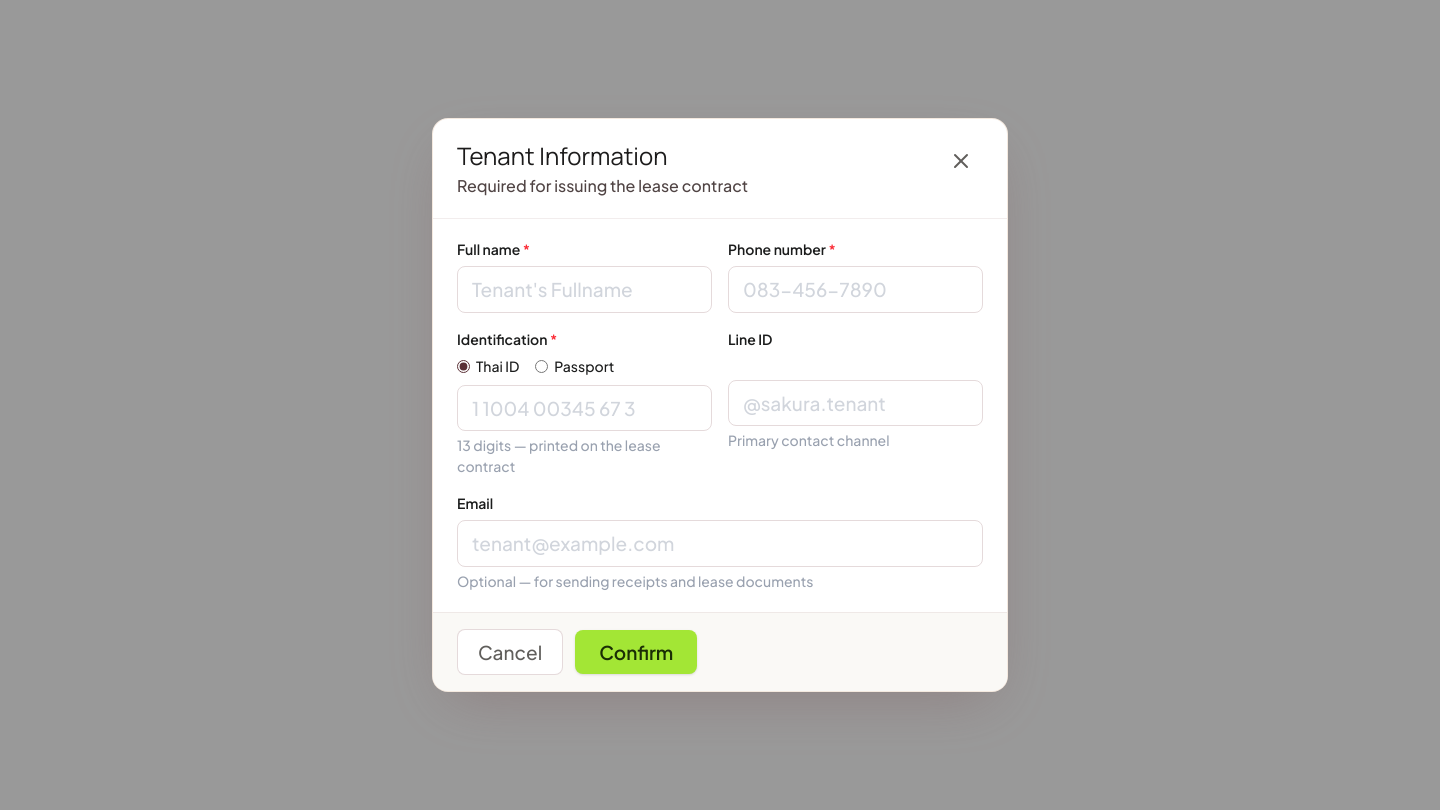
it: AddTenantDialog (SSK-107) › formats National ID automatically and validates Thai 13-digit checksum in English
// Type National ID
Type "1100400123459" into the field named "National ID" at [584, 408], box [457,385,712,431]
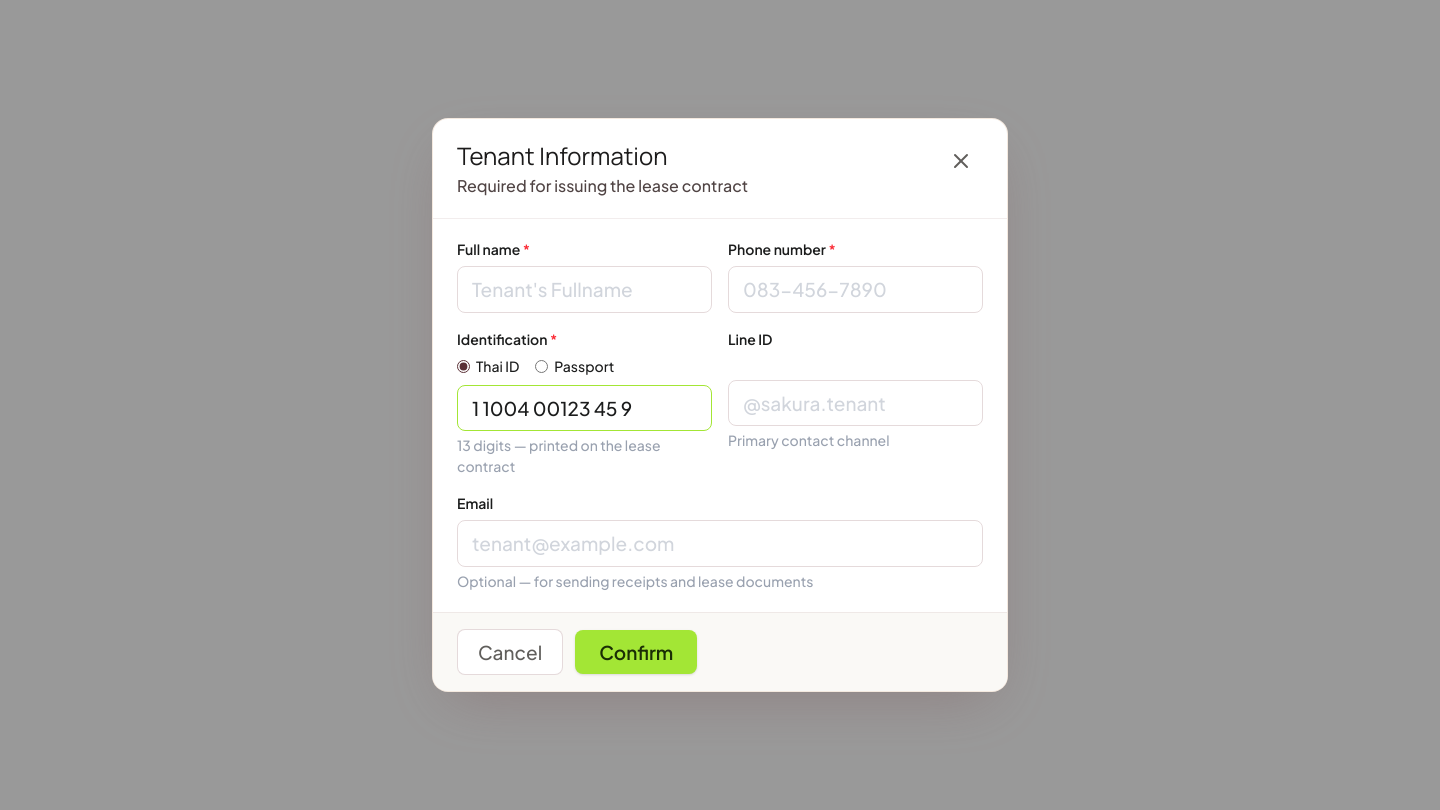
Check: the field named "National ID" holds "1 1004 00123 45 9", box [457,385,712,431]
Type "Nanami Aoki" into the field labelled "Full name *" at [584, 290], box [457,266,712,313]
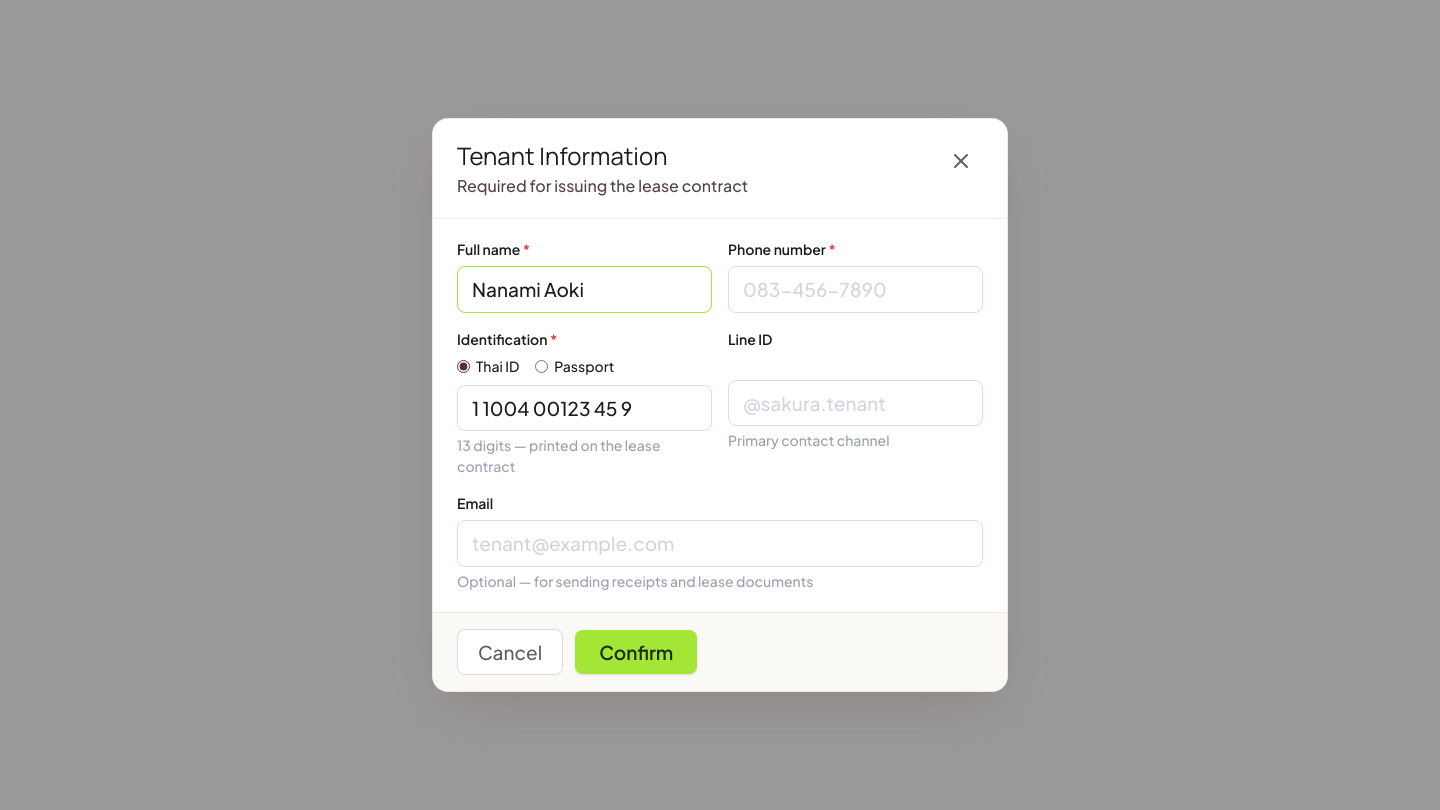
Type "089-777-8888" into the field labelled "Phone number *" at [856, 290], box [728,266,983,313]
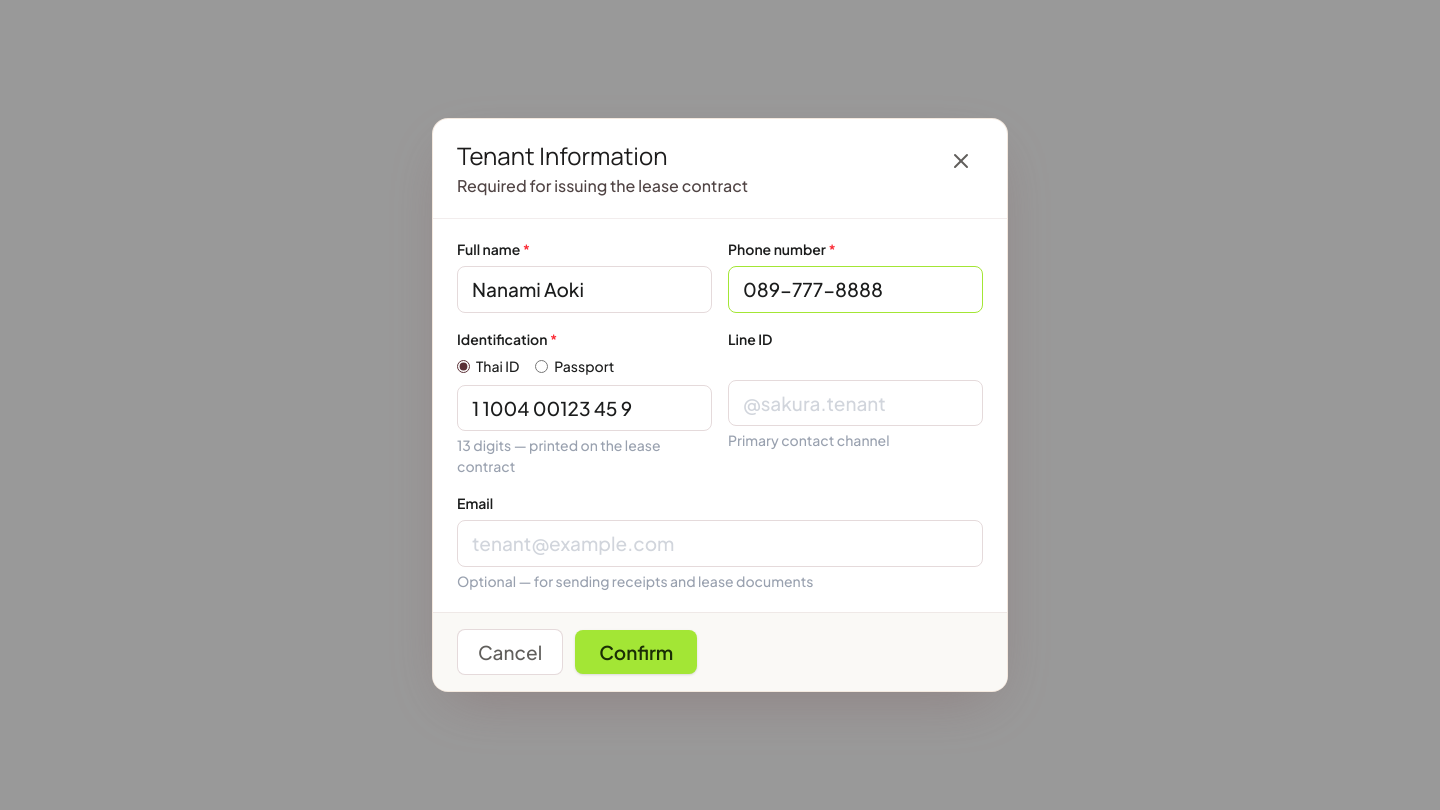
Click the button "Confirm" at [636, 652], box [575,630,697,674]
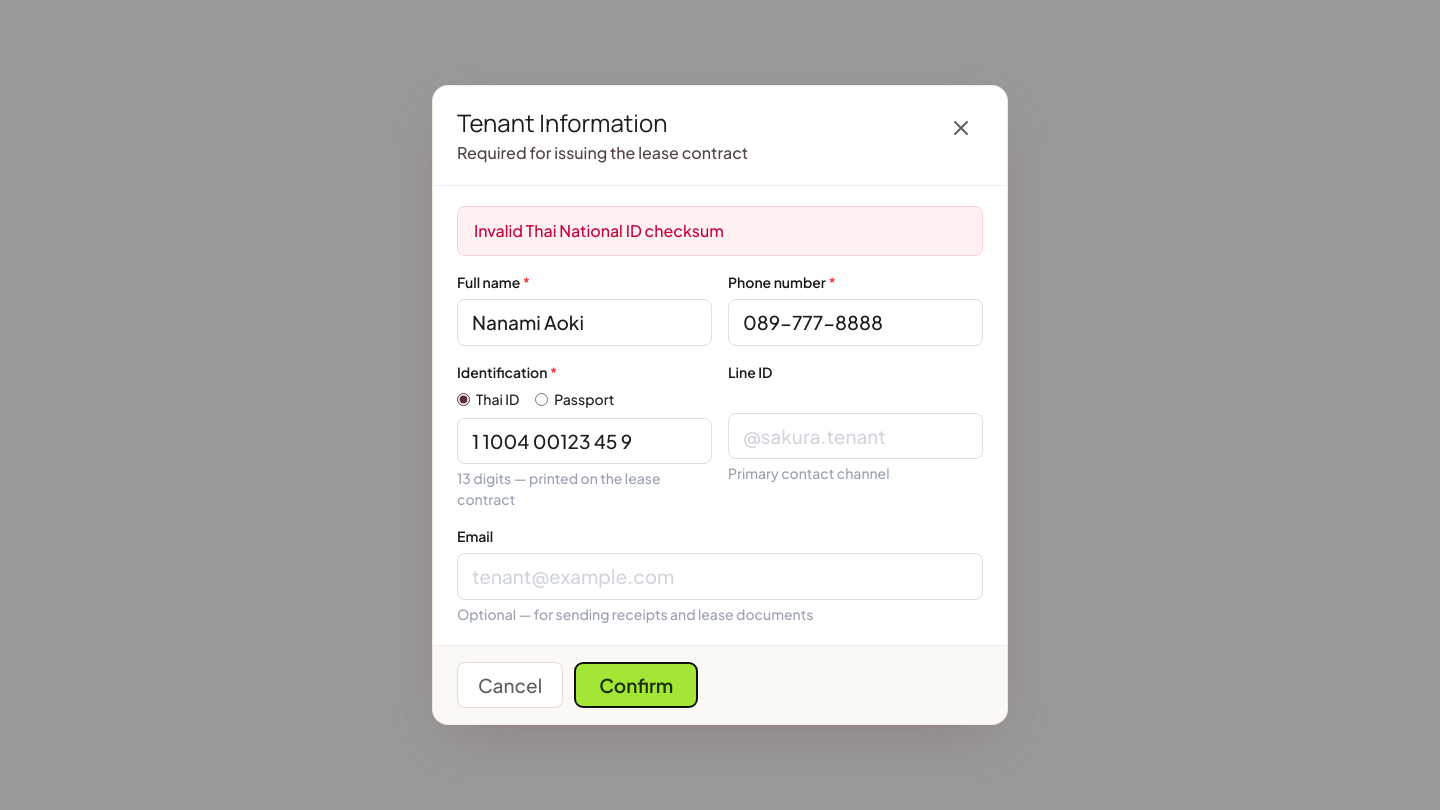
Check: the message reads "Invalid Thai National ID checksum", box [474,220,724,241]
